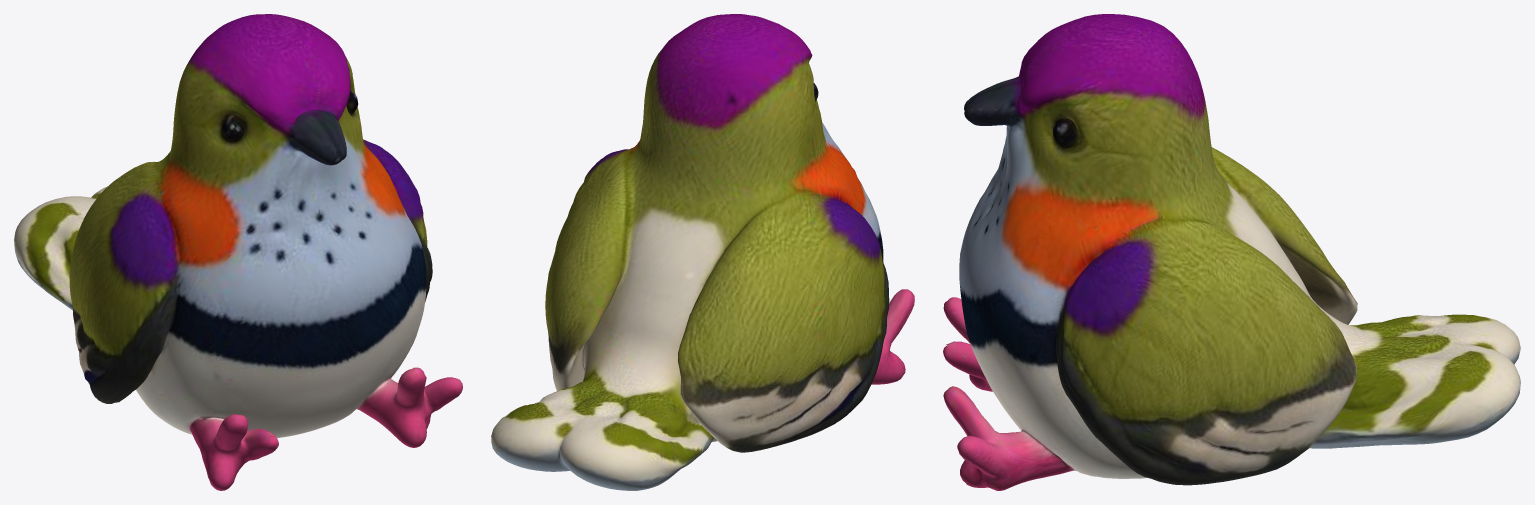
The model's file is sunny.glb.
3 views of the same model, side by side, from view 1: azimuth 30°, elevation 25°; view 2: azimuth 150°, elevation 25°; view 3: azimuth 270°, elevation 25° (orthographic). The views are drawn at different scales.
Parts seen in each view (by area): view 1: sunny; view 2: sunny; view 3: sunny.
Part boxes in pixels (x1,y1,x2,y2): sunny: [14, 14, 462, 490]; sunny: [491, 14, 914, 490]; sunny: [943, 14, 1520, 490].
Size of the model in its own units: 0.5386 by 0.6395 by 0.8.
1 material, 1 textured.
